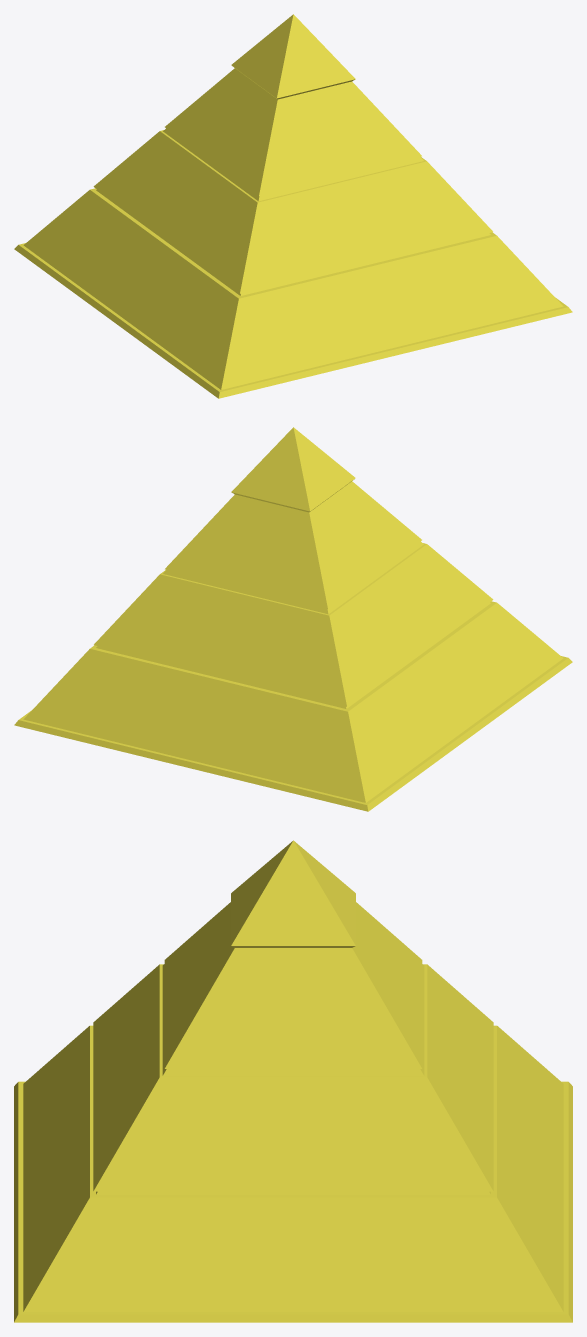
3 renders of one model, top to bottom at view 1: azimuth 30°, elevation 25°; view 2: azimuth 150°, elevation 25°; view 3: azimuth 270°, elevation 25°, orthographic. The views are drawn at different scales.
Parts seen in each view (by area): view 1: pyramid; view 2: pyramid; view 3: pyramid.
Boxes of the visible parts, <box> form: pyramid: <box>14,14,572,398</box>; pyramid: <box>14,427,572,811</box>; pyramid: <box>14,840,572,1322</box>.
Bounding box in the file's own units: 175 × 125 × 175.
